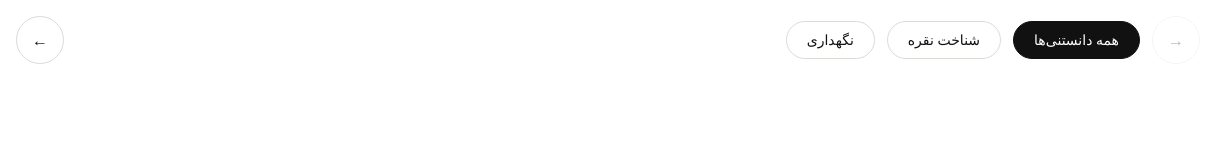
GuideTopicScroller › keeps result anchors on links and moves exactly one topic per control click
Expected: the button named "موضوع قبلی" is disabled, 1152,16 -> 1200,64
Click the button named "موضوع بعدی" at (40, 40), box 16,16 -> 64,64
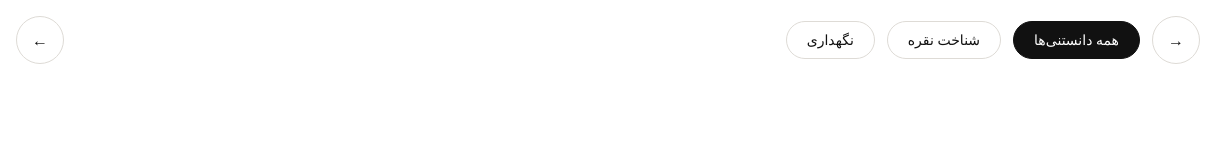
Expected: the button named "موضوع قبلی" is enabled, 1152,16 -> 1200,64
